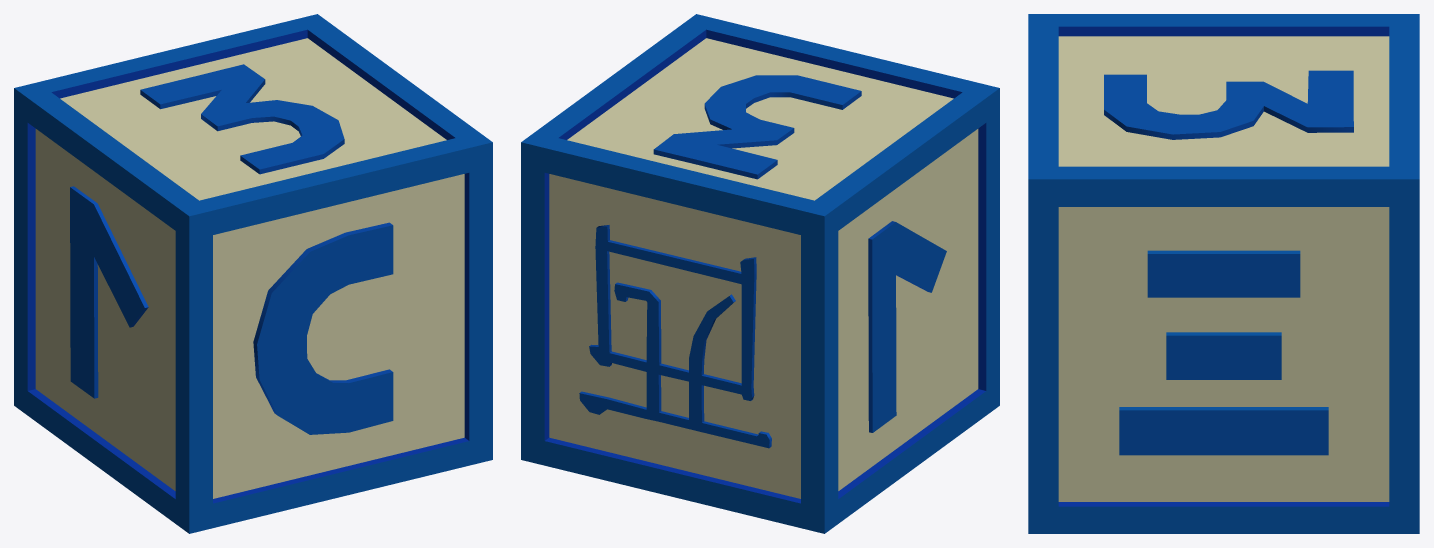
Rendered from human-toys-alphabet-block_v2.glb.
The picture shows the model from 3 angles, left to right: view 1: azimuth 30°, elevation 25°; view 2: azimuth 150°, elevation 25°; view 3: azimuth 270°, elevation 25°; orthographic projection. The views are drawn at different scales.
Parts seen in each view (by area): view 1: Alphabet Block_v2; view 2: Alphabet Block_v2; view 3: Alphabet Block_v2.
Part boxes in pixels (bbox=[...]): Alphabet Block_v2: bbox=[14, 14, 492, 533]; Alphabet Block_v2: bbox=[521, 14, 999, 533]; Alphabet Block_v2: bbox=[1028, 14, 1419, 533].
Size of the model in its own units: 0.05 by 0.05 by 0.05.
